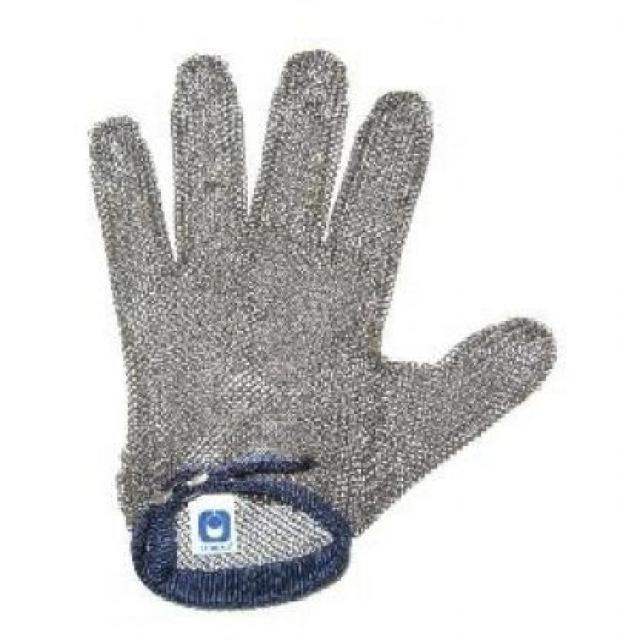glove: (82, 39, 562, 618)
